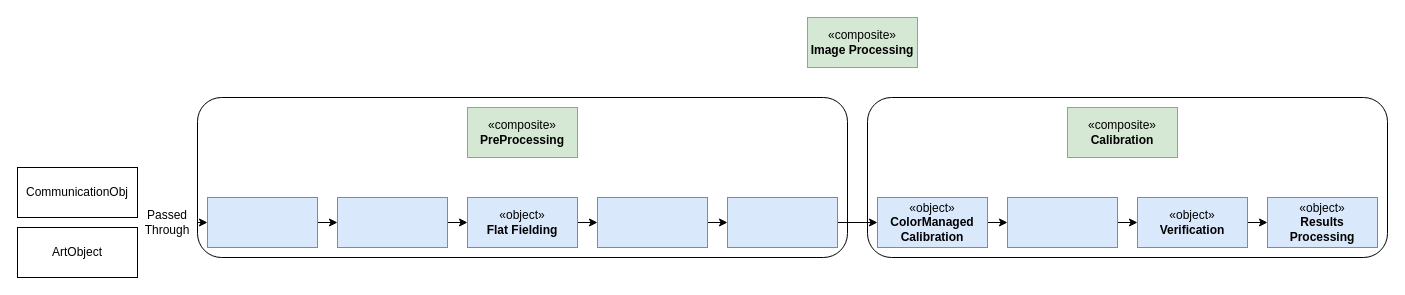
This 1405x295 diagram has some shape labels left out. The shapes that lost their labels are listed below. From the top down, each one's box as (x1, y1, x2, y2) in pixels, then its label:
(206, 196, 318, 248): «object» RAW ImageReader
(336, 196, 448, 248): «object» Bit Depth Scaling
(596, 196, 708, 248): «object» Noise Reduction
(726, 196, 838, 248): «object» Registration
(1006, 196, 1118, 248): «object» Spectral Calibration
